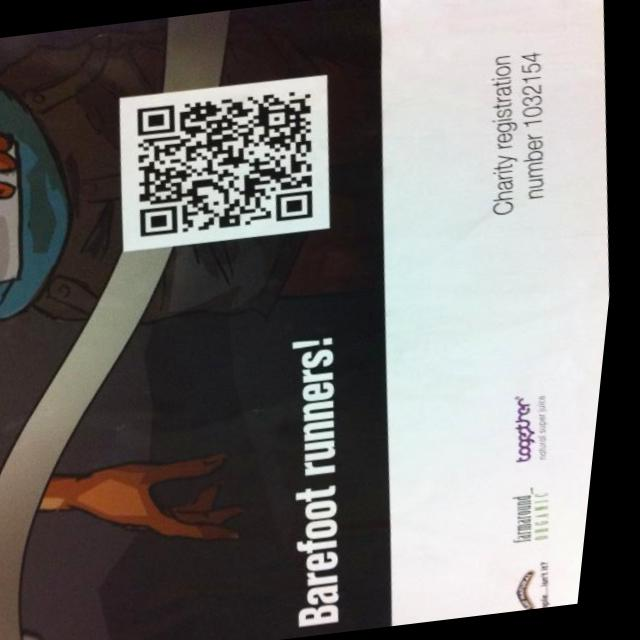qrcode: (130, 88, 329, 238)
